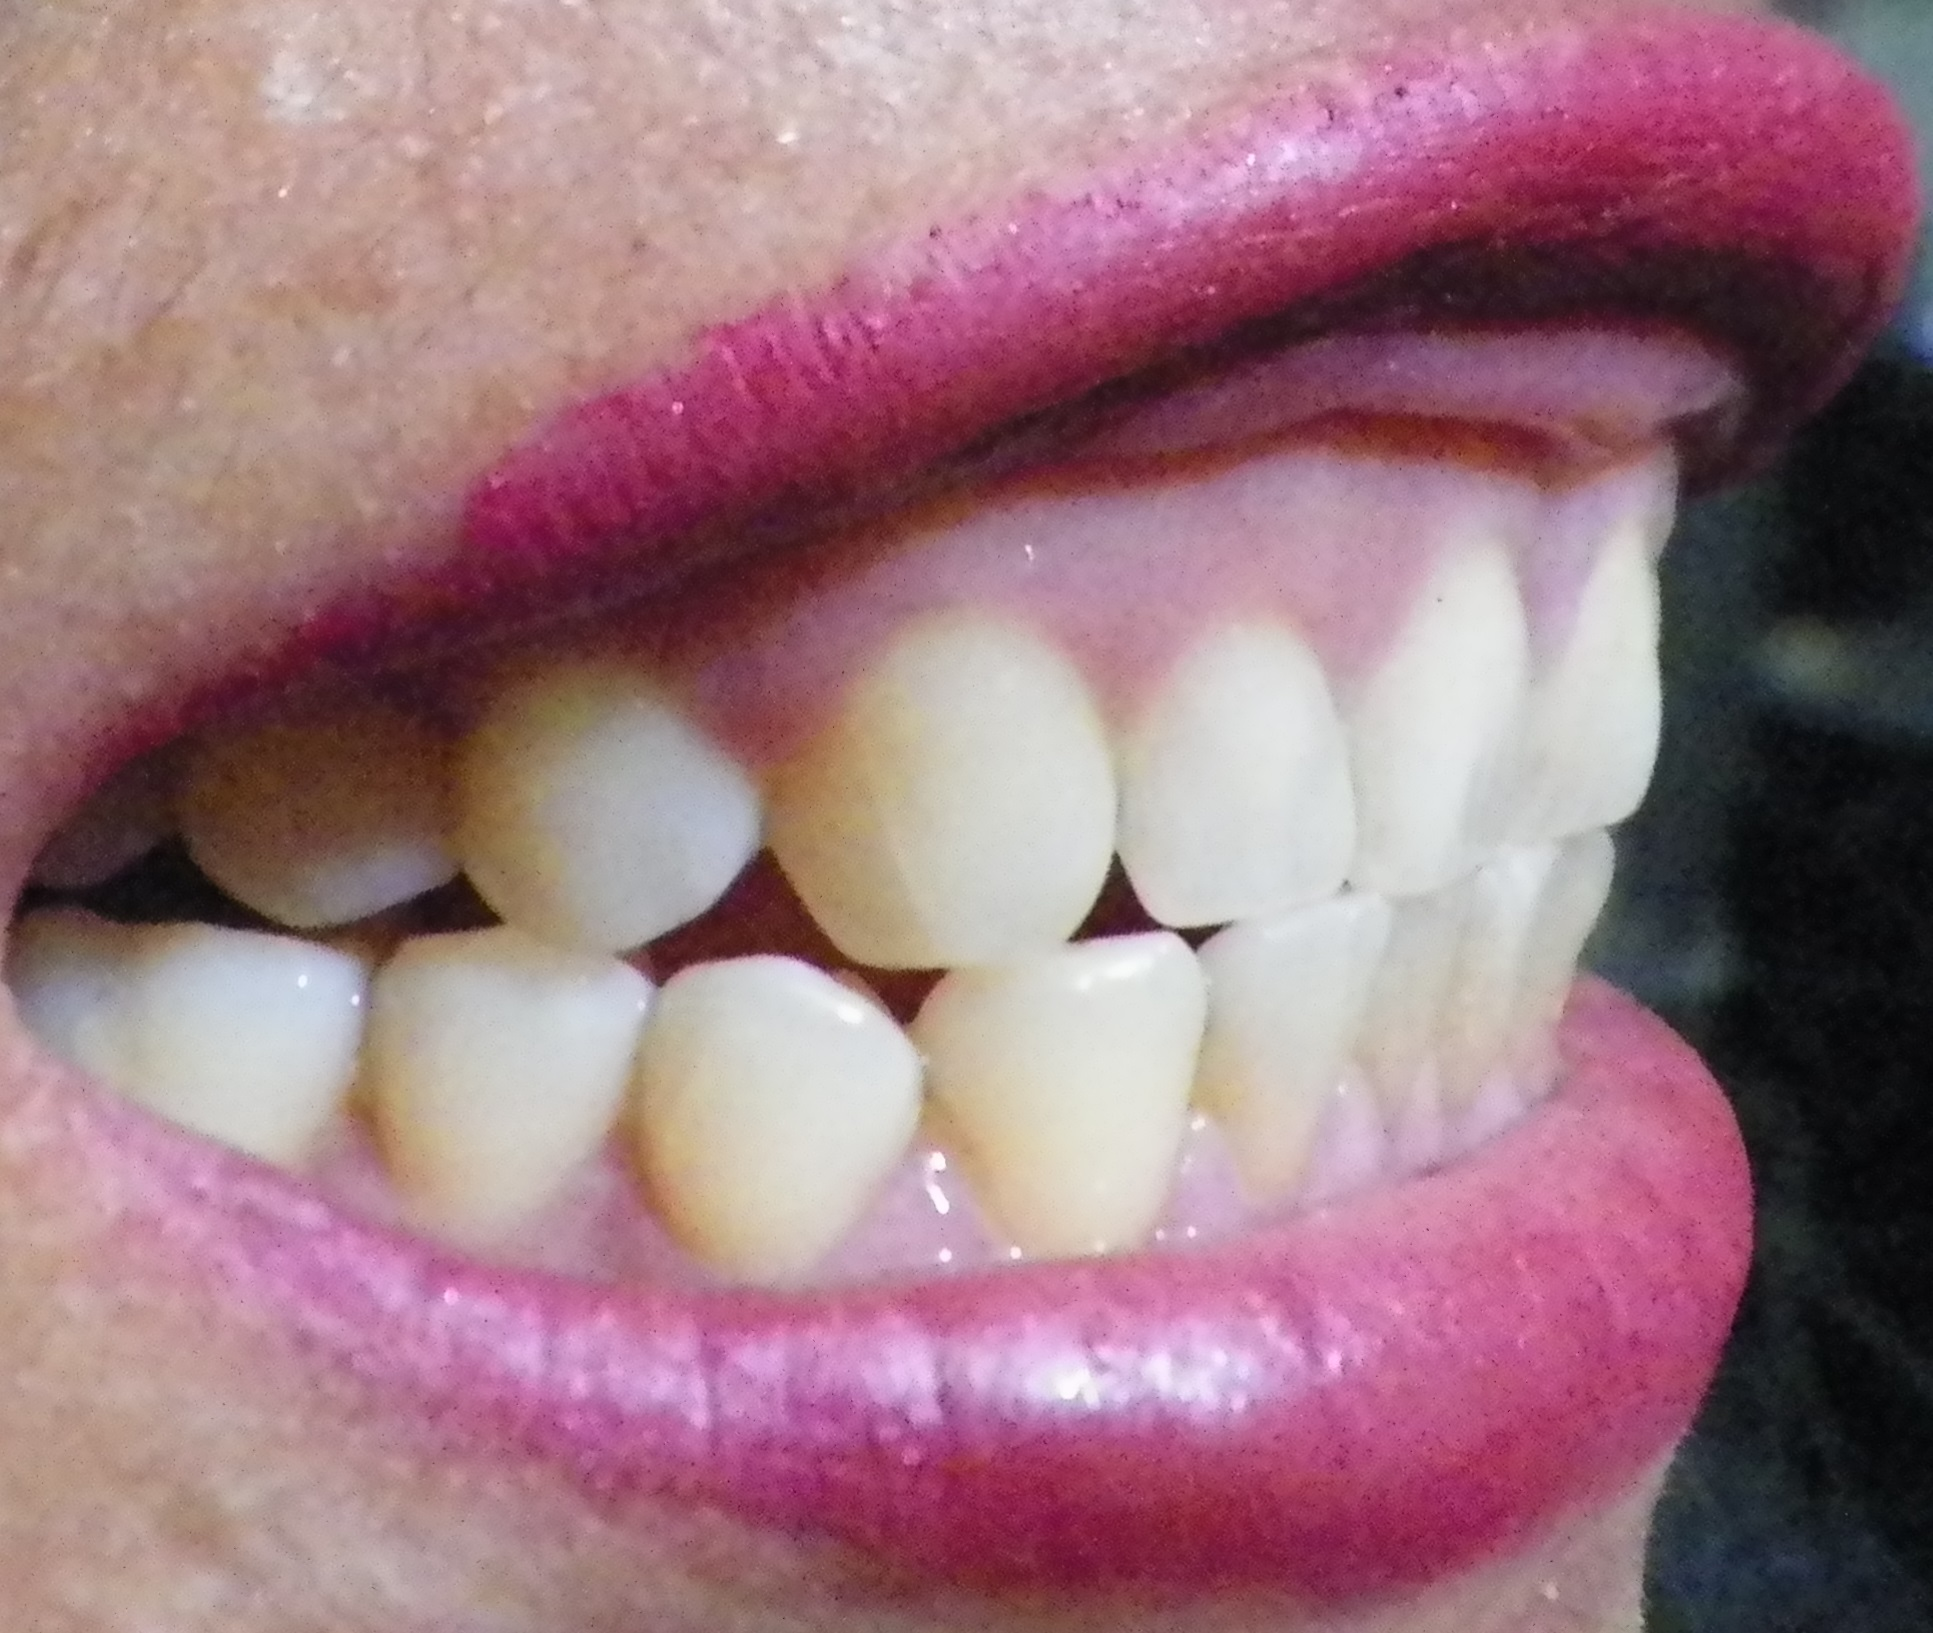boca: (122, 536, 1679, 1272)
